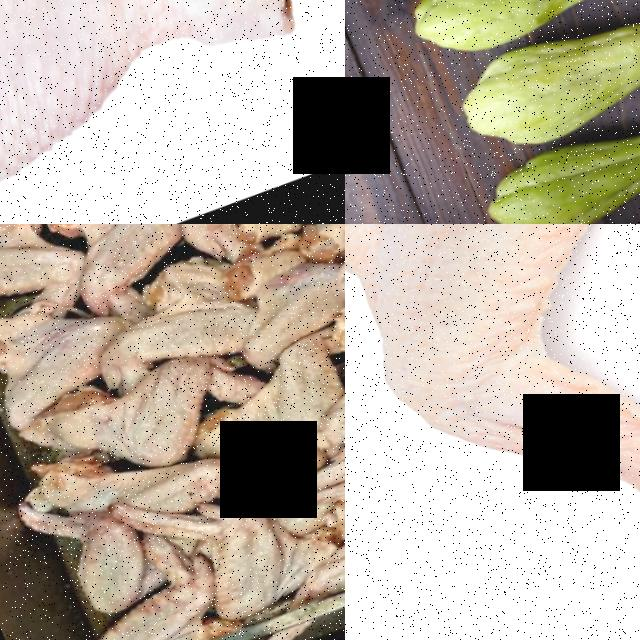chayote: (429, 0, 640, 177), (451, 74, 640, 224), (392, 0, 640, 74)
chicken thigh: (0, 0, 326, 224)
chicken wing: (345, 224, 640, 640), (45, 348, 230, 499), (92, 247, 248, 390), (170, 474, 306, 624), (0, 283, 120, 426), (40, 224, 193, 307), (78, 565, 227, 640), (0, 224, 83, 341), (290, 272, 345, 435), (286, 476, 345, 604)
